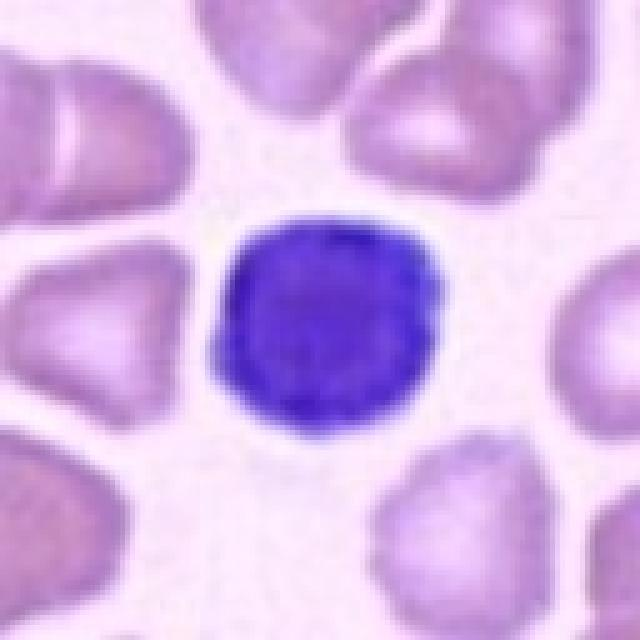lympho: (203, 212, 455, 440)
